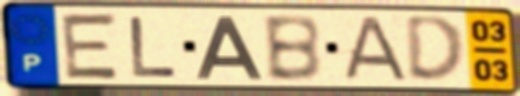A: (337, 15, 413, 83), (193, 14, 266, 81)
B: (259, 13, 325, 84)
D: (402, 13, 469, 86)
E: (59, 11, 124, 82)
L: (126, 14, 181, 79)
